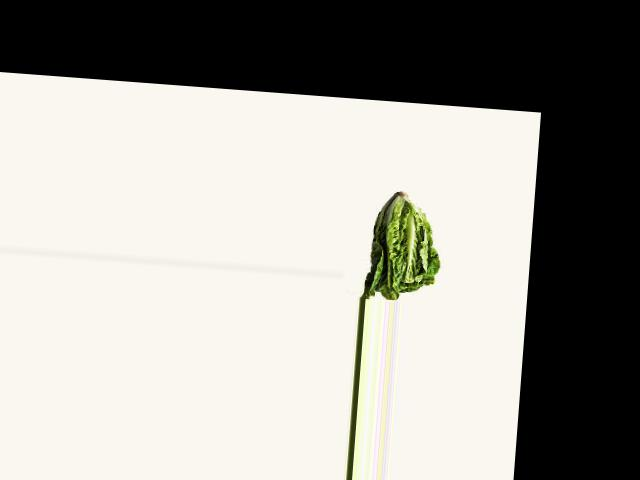lettuce: (363, 192, 448, 303)
